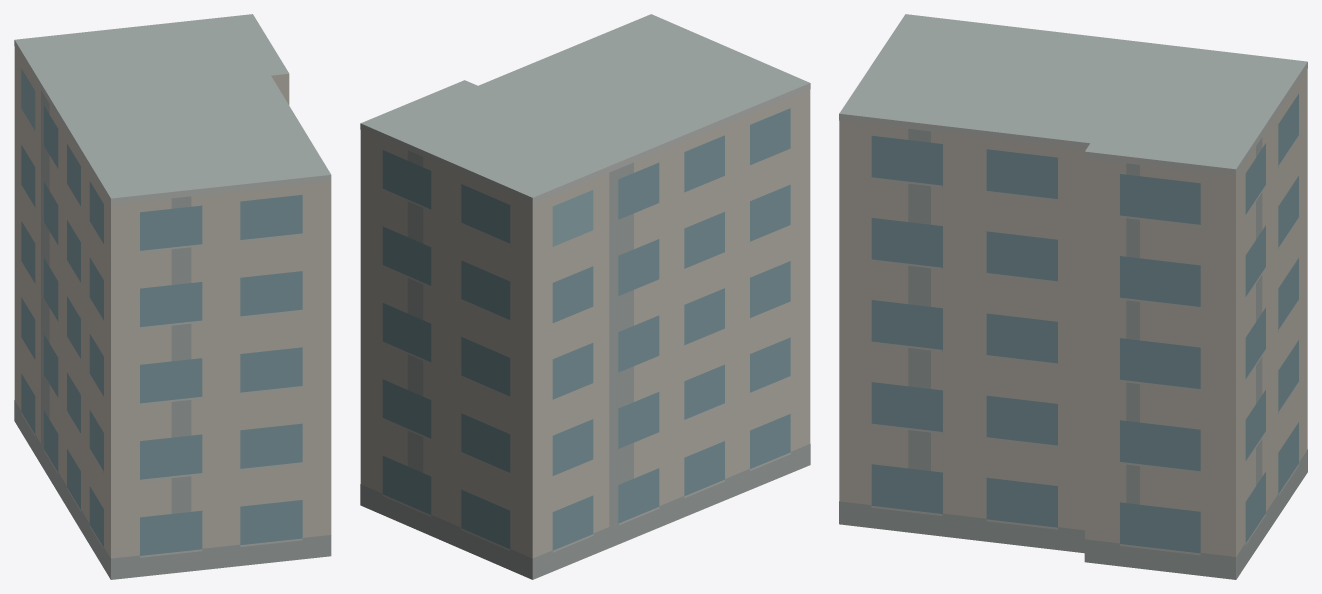
Rendered from survey-upis-32721516.glb.
3 views of the same model, side by side, from view 1: azimuth 30°, elevation 25°; view 2: azimuth 150°, elevation 25°; view 3: azimuth 270°, elevation 25° (orthographic). The views are drawn at different scales.
Visible parts, largest first — view 1: survey-upis-32721516.tmp; view 2: survey-upis-32721516.tmp; view 3: survey-upis-32721516.tmp.
Boxes of the visible parts, x1=… form: survey-upis-32721516.tmp: x1=14, y1=14, x2=331, y2=579; survey-upis-32721516.tmp: x1=360, y1=14, x2=810, y2=579; survey-upis-32721516.tmp: x1=839, y1=14, x2=1307, y2=579.
Size of the model in its own units: 11.77 by 14.5 by 15.01.
